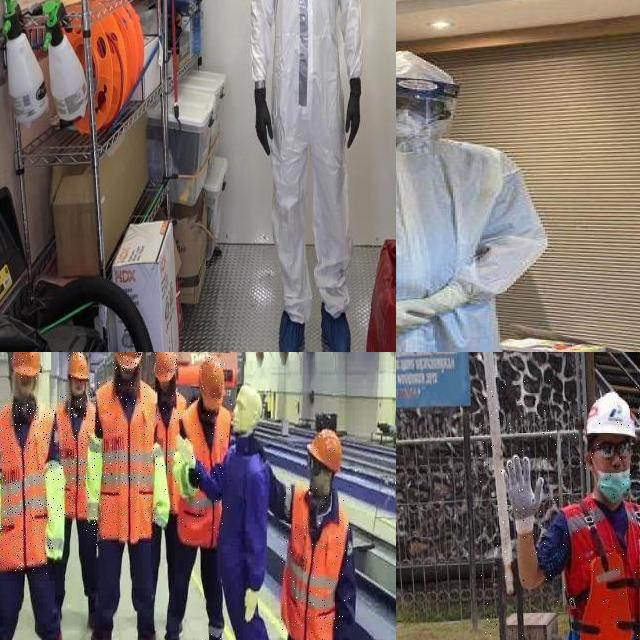GLASS: (591, 441, 635, 459)
GLOVE: (501, 454, 544, 534), (253, 88, 274, 156), (344, 76, 362, 149)
Glove: (396, 285, 468, 335)
HELMET: (585, 390, 638, 440), (305, 429, 343, 469), (199, 356, 225, 414), (11, 352, 41, 380), (153, 352, 177, 383), (67, 352, 89, 384), (112, 352, 143, 371)
MASK: (396, 107, 437, 137)
VEST: (559, 495, 640, 640), (281, 484, 350, 640), (96, 380, 156, 542), (0, 402, 55, 571), (180, 399, 232, 549), (57, 393, 97, 517), (155, 392, 185, 512)
